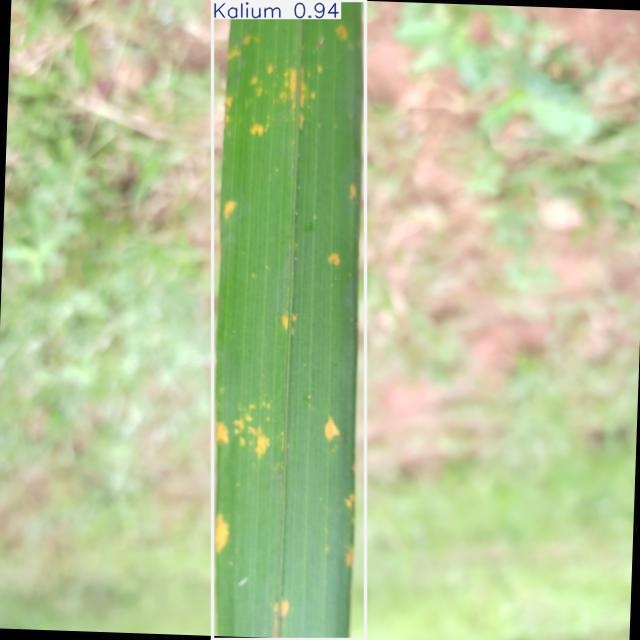Kalium: (212, 0, 366, 640)
